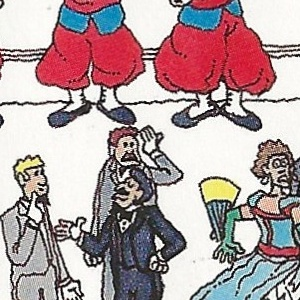Odlaw: (140, 118, 160, 182)
